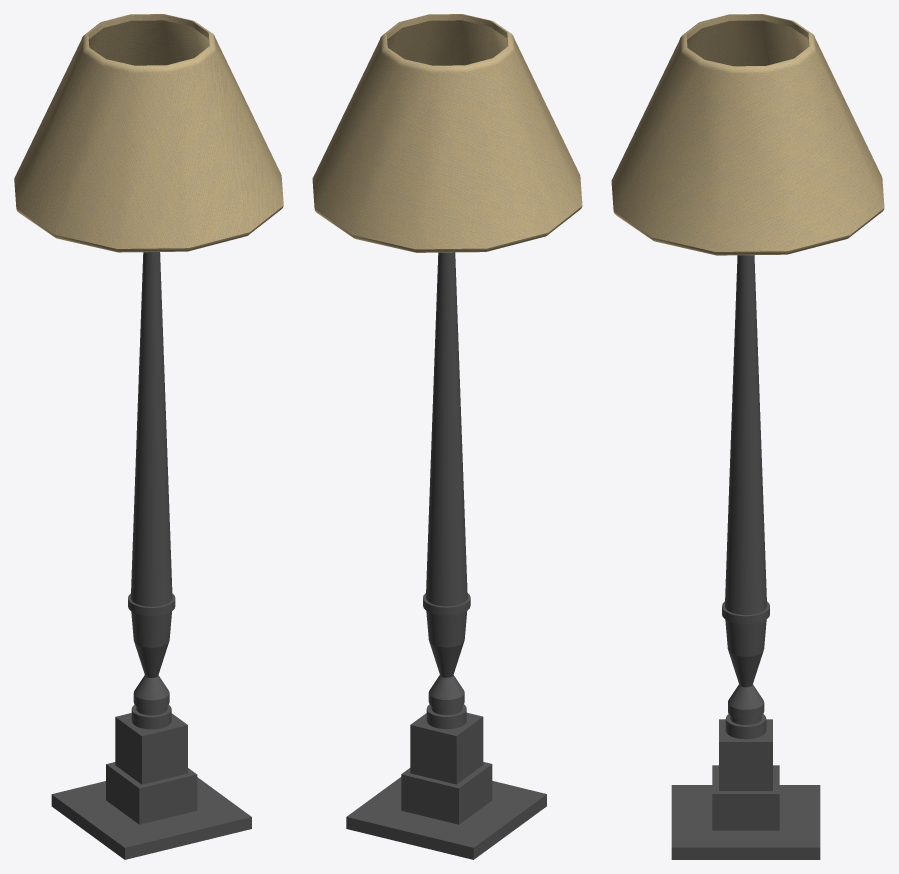
3 views of the same model, side by side, from view 1: azimuth 30°, elevation 25°; view 2: azimuth 150°, elevation 25°; view 3: azimuth 270°, elevation 25° (orthographic).
Parts seen in each view (by area): view 1: Light_Cap, Traditional_Stand (×7); view 2: Light_Cap, Traditional_Stand (×7); view 3: Light_Cap, Traditional_Stand (×7).
Part boxes in pixels (x1=…): Light_Cap: x1=14, y1=14, x2=283, y2=252; Traditional_Stand (×7): x1=51, y1=252, x2=251, y2=859; Light_Cap: x1=312, y1=14, x2=582, y2=252; Traditional_Stand (×7): x1=346, y1=252, x2=546, y2=859; Light_Cap: x1=611, y1=14, x2=884, y2=255; Traditional_Stand (×7): x1=671, y1=255, x2=820, y2=859.
Size of the model in its own units: 20.22 by 20.22 by 64.34.
3 materials, 1 textured.
